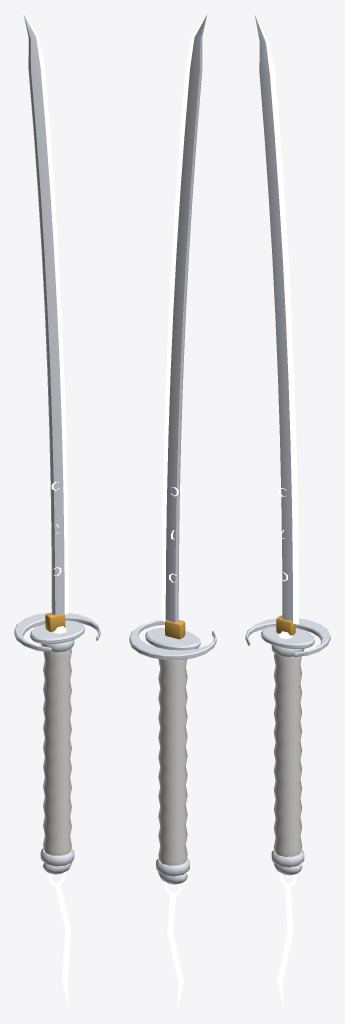
Rendered from moonlight_katana.glb.
3 views of the same model, side by side, from view 1: azimuth 30°, elevation 25°; view 2: azimuth 150°, elevation 25°; view 3: azimuth 330°, elevation 25° (orthographic). The views are drawn at different scales.
Parts seen in each view (by area): view 1: moonlight_katana; view 2: moonlight_katana; view 3: moonlight_katana.
Boxes of the visible parts, x1,y1,x2,y2 form: moonlight_katana: (14,14,100,1008); moonlight_katana: (129,14,216,1008); moonlight_katana: (245,14,330,1008).
Bounding box in the file's own units: 0.1083 × 1.4 × 0.0971.
